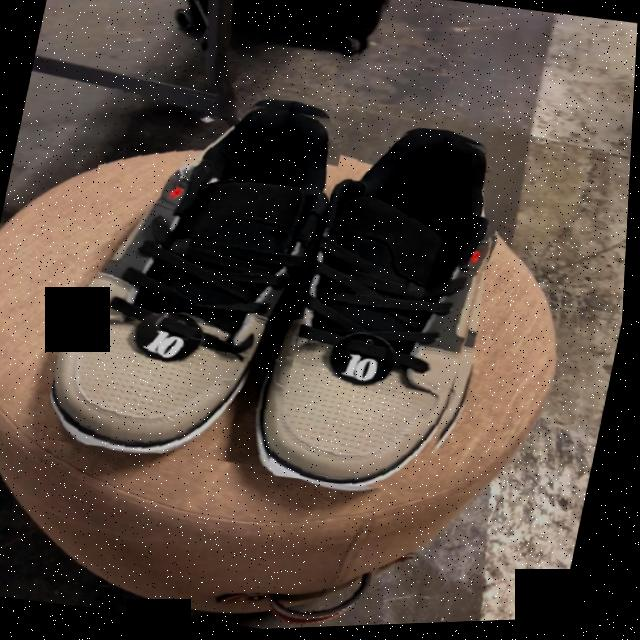shoe: (56, 109, 333, 455), (263, 141, 493, 489)
